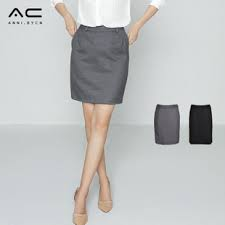F_tailored skirt: (63, 24, 136, 116), (150, 101, 183, 153), (187, 101, 214, 151)
